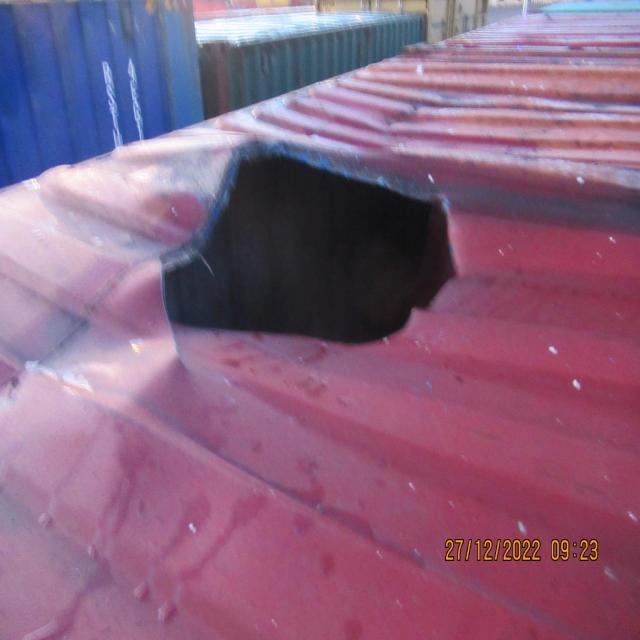hole: (166, 131, 463, 356)
